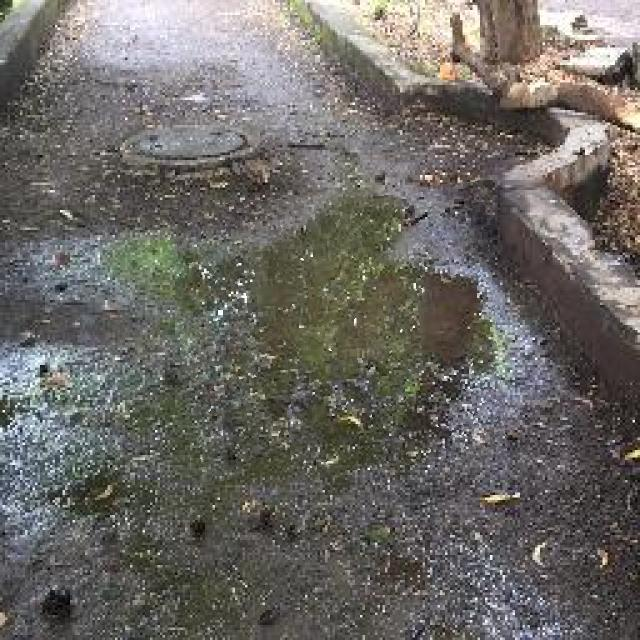puddle: (176, 189, 502, 477)
